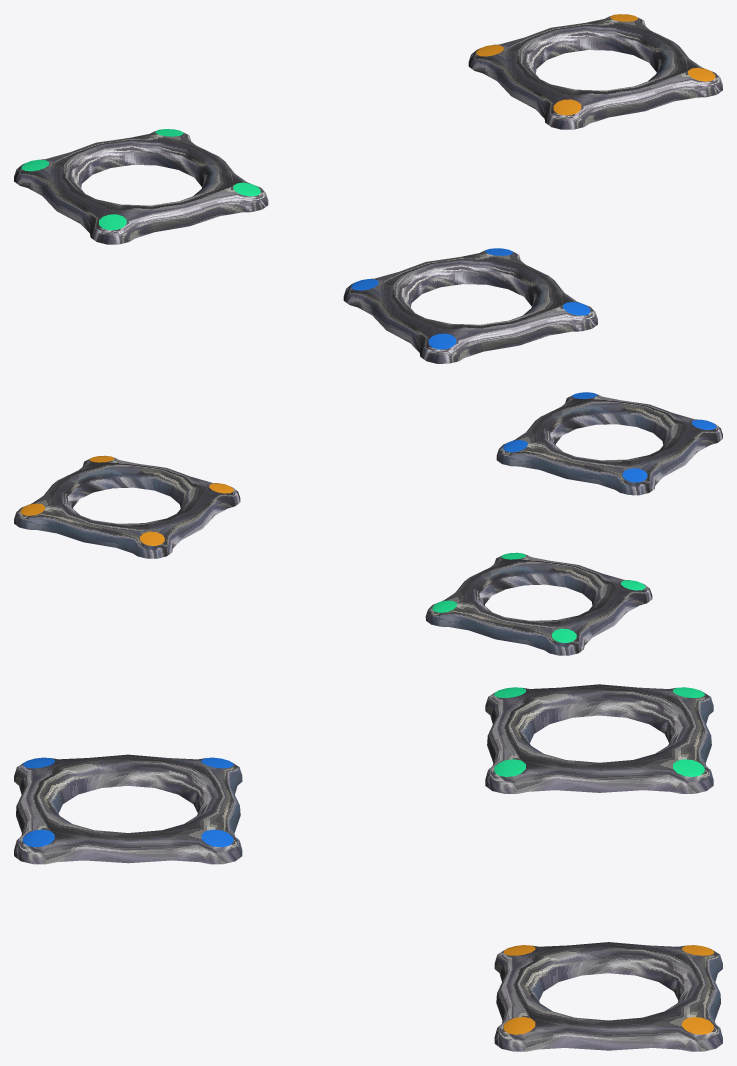
Rendered from Trafo_NoAnim.fbx.
The picture shows the model from 3 angles, top to bottom: view 1: azimuth 30°, elevation 25°; view 2: azimuth 150°, elevation 25°; view 3: azimuth 270°, elevation 25°; orthographic projection. The views are drawn at different scales.
Visible parts, largest first — view 1: P_Trafo_Wood_MF, P_Trafo_Paper_MF, P_Trafo_Stone_MF; view 2: P_Trafo_Paper_MF, P_Trafo_Wood_MF, P_Trafo_Stone_MF; view 3: P_Trafo_Wood_MF, P_Trafo_Stone_MF, P_Trafo_Paper_MF.
Boxes of the visible parts, bbox=[...] form: P_Trafo_Wood_MF: bbox=[468, 14, 722, 129]; P_Trafo_Paper_MF: bbox=[343, 248, 597, 363]; P_Trafo_Stone_MF: bbox=[14, 129, 268, 244]; P_Trafo_Paper_MF: bbox=[496, 392, 722, 495]; P_Trafo_Wood_MF: bbox=[14, 455, 240, 558]; P_Trafo_Stone_MF: bbox=[425, 552, 652, 655]; P_Trafo_Wood_MF: bbox=[494, 942, 722, 1051]; P_Trafo_Stone_MF: bbox=[485, 684, 713, 793]; P_Trafo_Paper_MF: bbox=[14, 754, 242, 864].
Size of the model in its own units: 18.09 by 0.4835 by 15.3.
6 materials, 3 textured.
